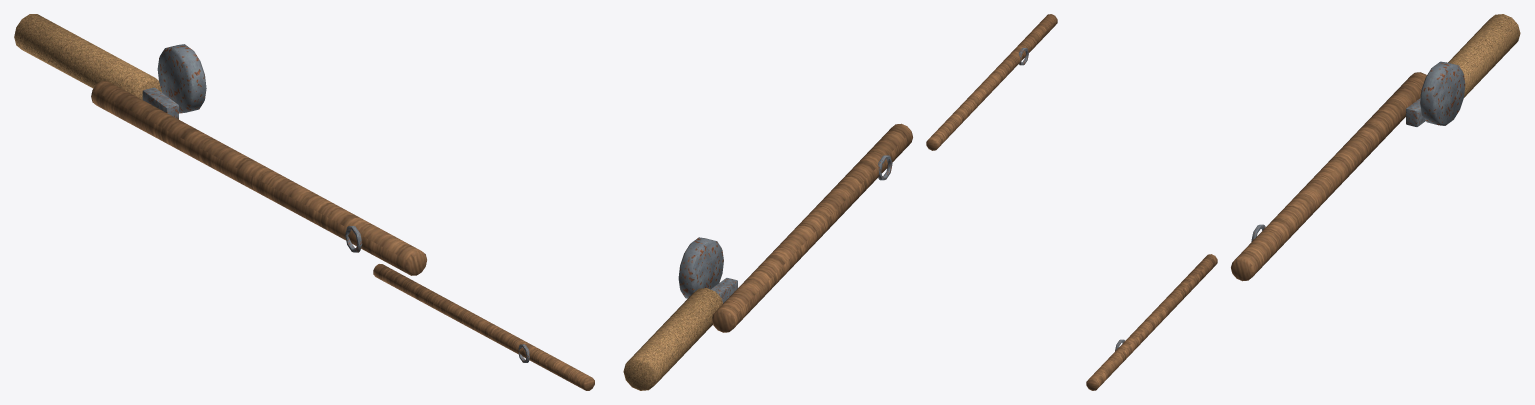
The model's file is fishing_pole.glb.
3 renders of one model, left to right at view 1: azimuth 30°, elevation 25°; view 2: azimuth 150°, elevation 25°; view 3: azimuth 330°, elevation 25°, orthographic. The views are drawn at different scales.
Visible parts, largest first — view 1: fishing_pole; view 2: fishing_pole; view 3: fishing_pole.
Boxes of the visible parts, x1,y1,x2,y2 form: fishing_pole: [14, 14, 594, 390]; fishing_pole: [623, 14, 1057, 390]; fishing_pole: [1086, 14, 1520, 390].
Bounding box in the file's own units: 0.0798 × 0.0633 × 0.8205.
Materials: 4 (4 with a texture image).
